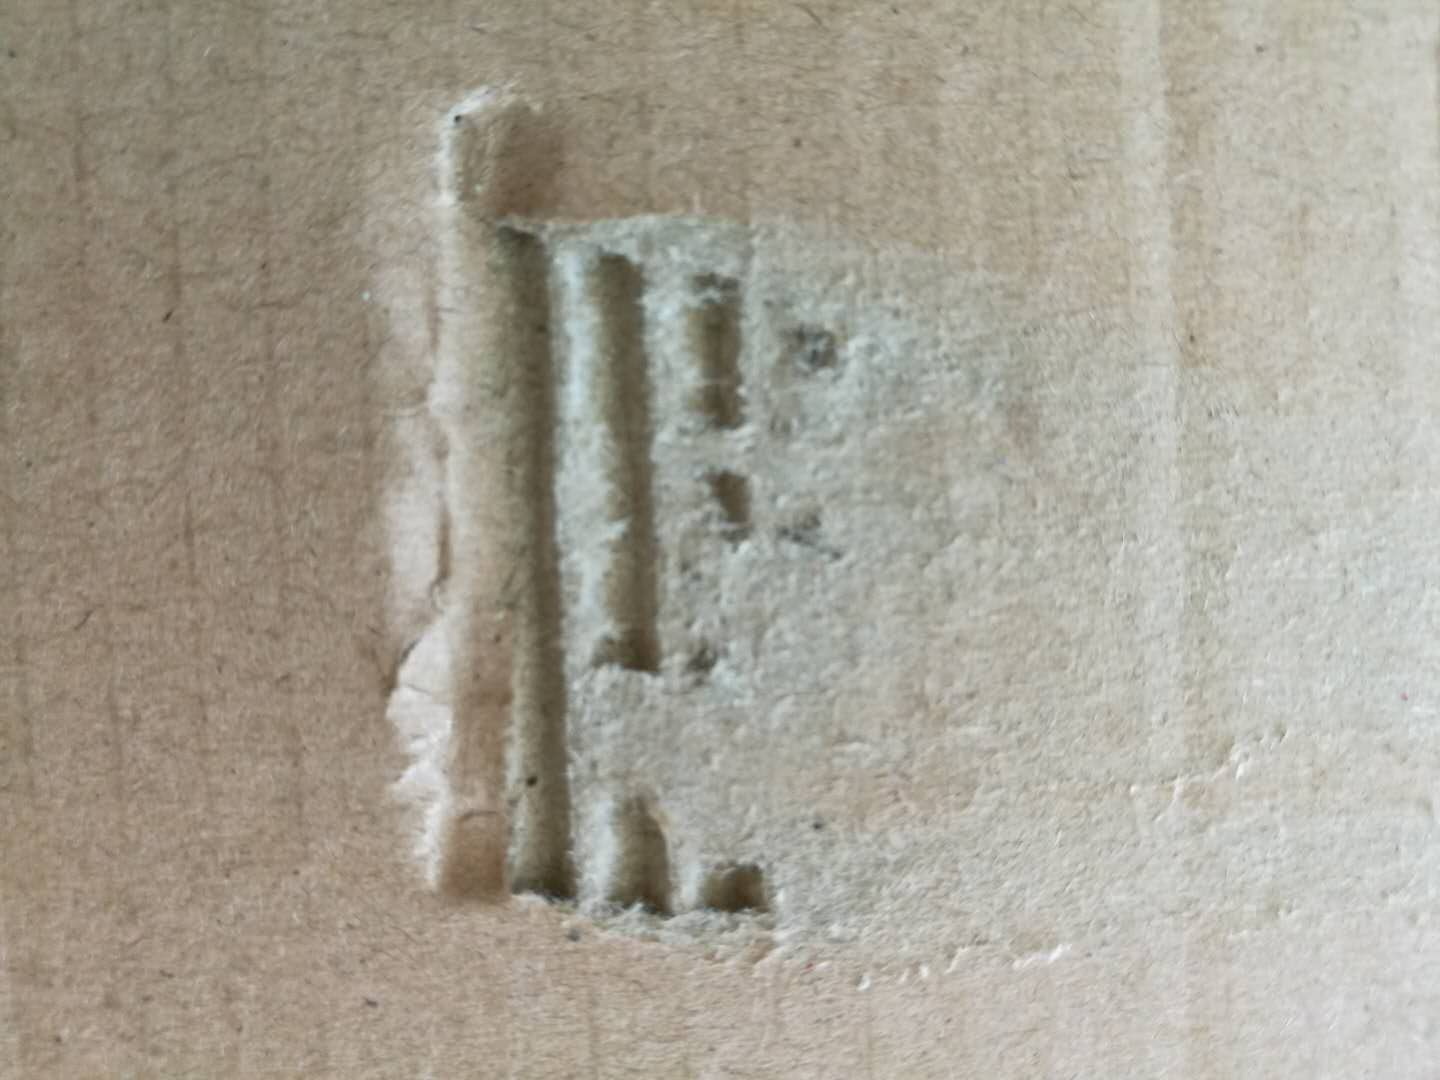defect: (281, 64, 1440, 1039)
